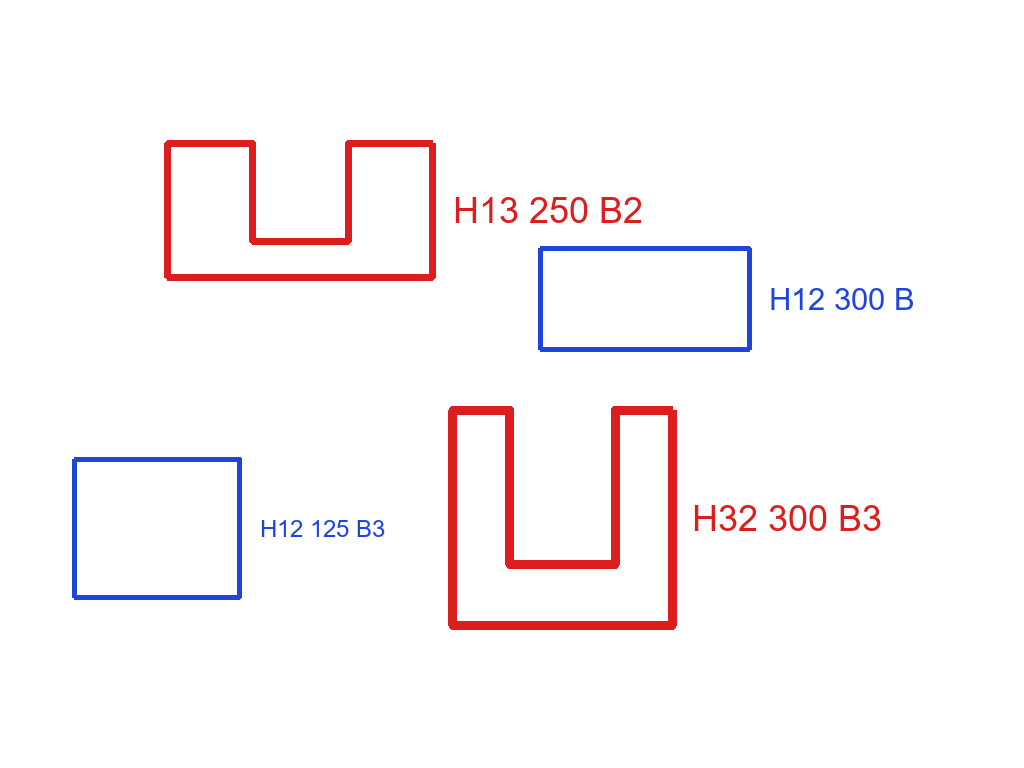shape: (446, 404, 679, 632), (162, 138, 438, 283), (70, 455, 244, 602), (536, 244, 754, 354)
text: (690, 503, 884, 533), (451, 195, 645, 225), (767, 286, 917, 312), (258, 518, 387, 539)
